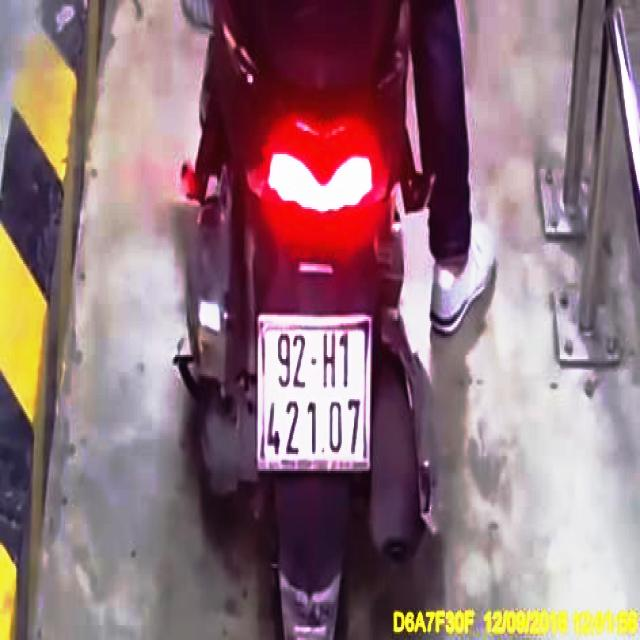license_plate: (263, 324, 372, 461)
